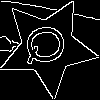Q: (23, 22, 76, 66)
